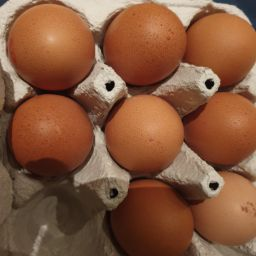Eggs: (12, 8, 195, 219), (10, 95, 98, 189), (8, 3, 101, 90), (100, 3, 190, 84), (108, 94, 189, 179), (119, 181, 199, 256), (191, 5, 256, 91), (191, 90, 256, 175), (198, 164, 256, 256)
